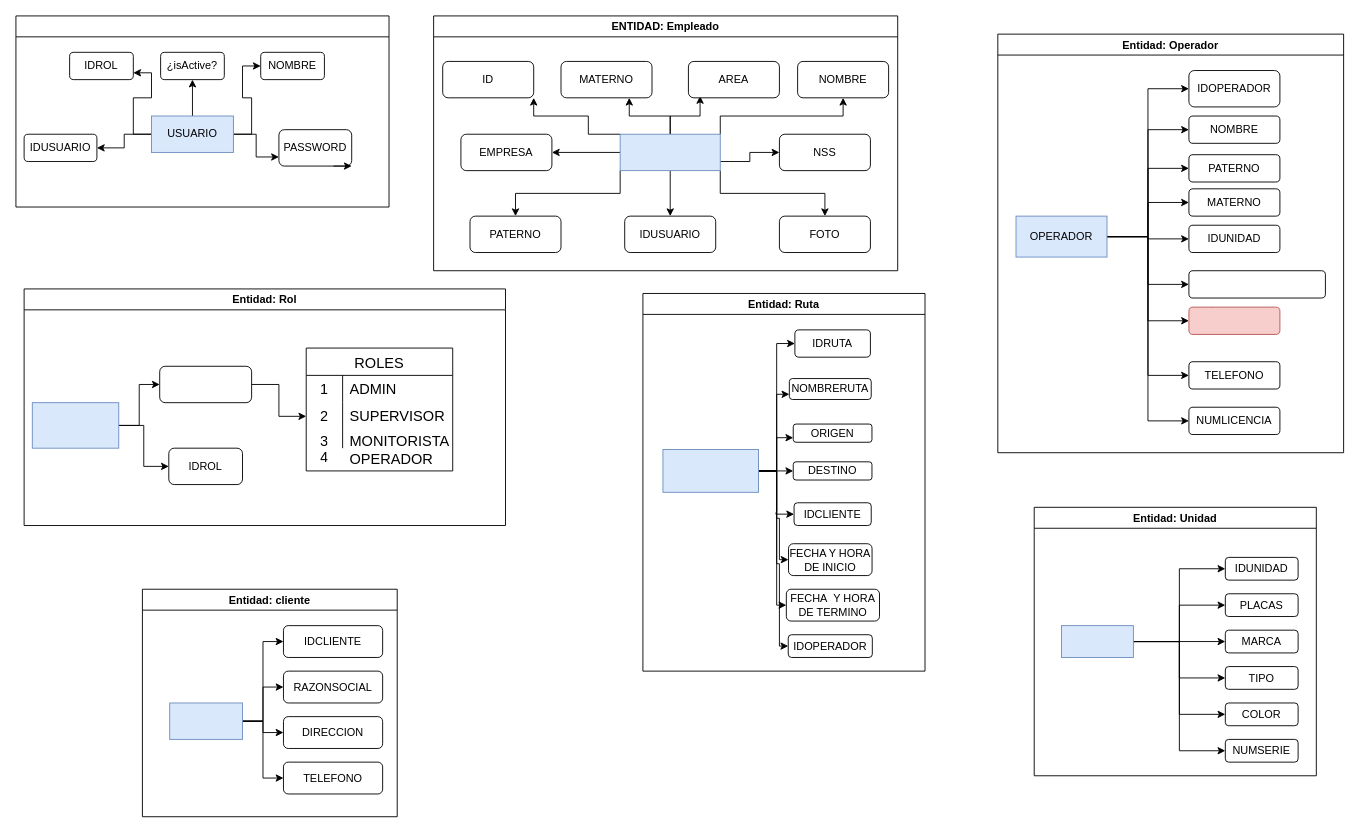
The diagram is 1360 pixels wide and 833 high, and some of its shapes have lost their labels. The shapes that lost their labels are listed below. From the top down, each one's centre as x and y in pixels, then its label:
pixel 202 111: ENTIDAD: Usuario
pixel 669 152: EMPLEADO
pixel 1256 284: LINEATRANSPORTISTA
pixel 1234 320: IDESTATUS
pixel 205 384: DESCRIPCION
pixel 75 425: ROL
pixel 710 470: RUTA
pixel 1097 641: UNIDAD
pixel 206 720: CLIENTE
